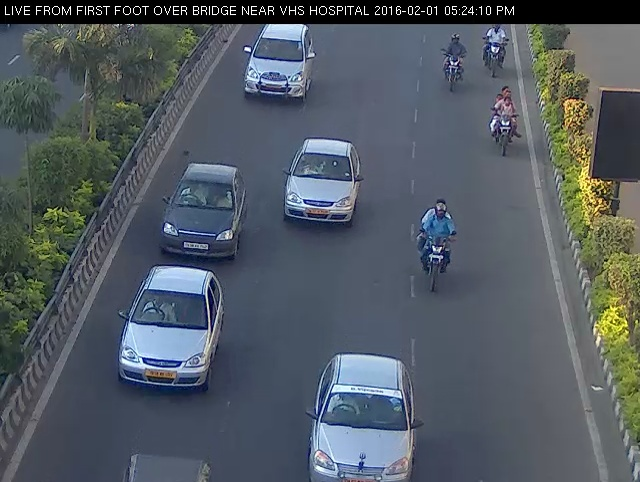Car: (295, 336, 427, 482), (110, 260, 235, 408), (151, 149, 253, 267), (271, 130, 369, 236), (232, 13, 324, 115), (117, 445, 222, 482)
Person: (401, 188, 466, 300), (486, 80, 527, 163), (477, 22, 519, 87), (434, 28, 473, 92)
